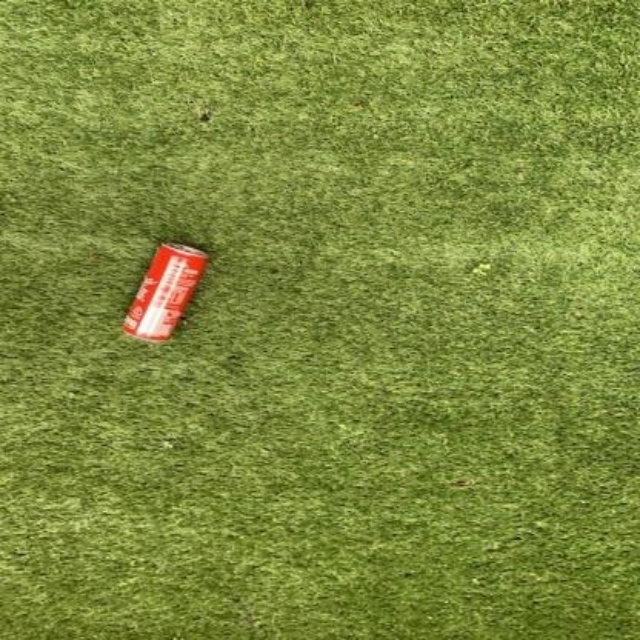trash: (123, 245, 206, 340)
